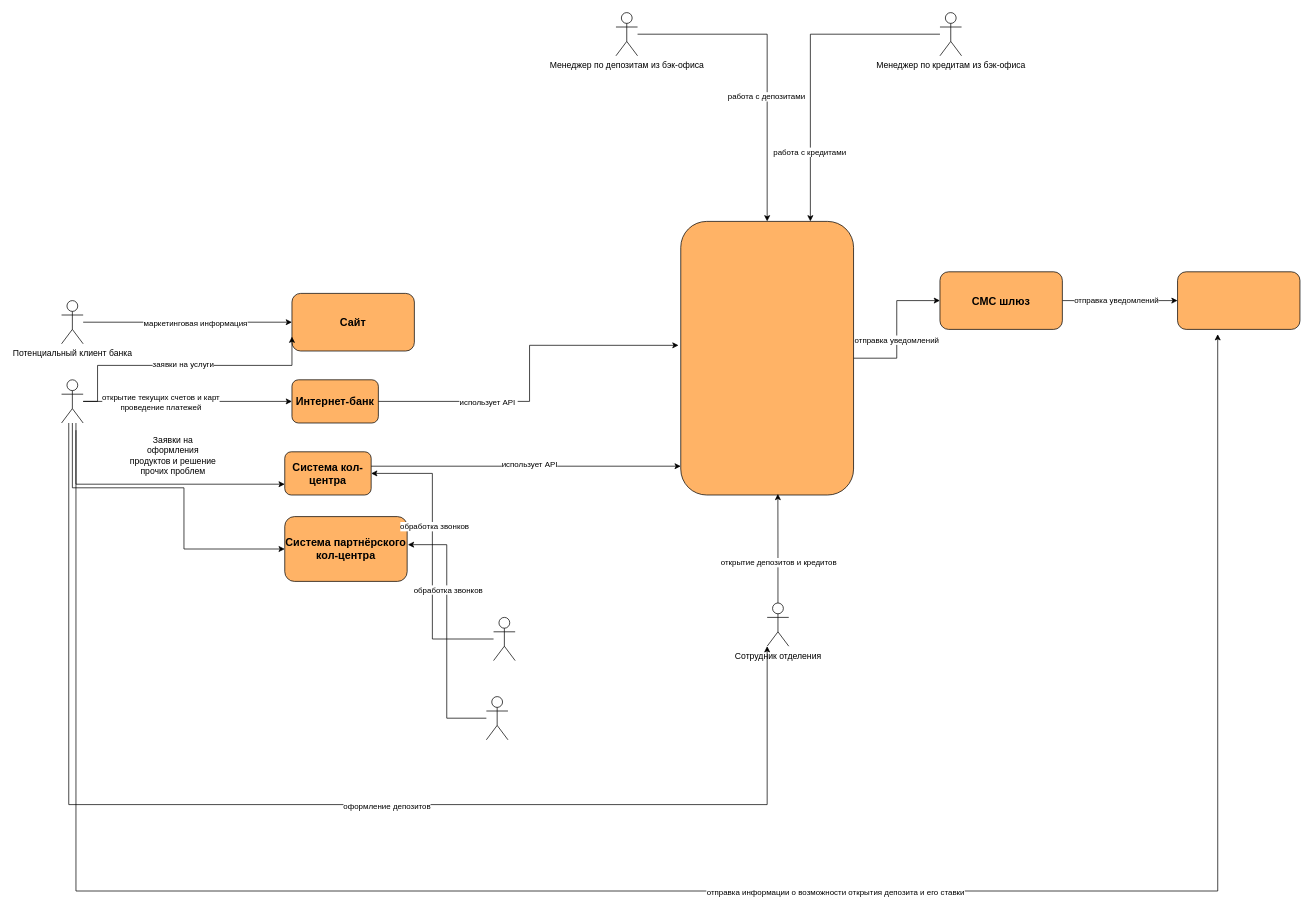
Image size: 1313x909. Some labels were removed from this diagram. The centre of each missing label's shape, as x and y in pixels:
"АБС" belongs at (x=767, y=358).
"Клиент банка" belongs at (x=72, y=401).
"Сотрудник кол-центра банка" belongs at (x=504, y=639).
"Сотрудник партнёрского кол-центра" belongs at (x=497, y=718).
"Телеком оператор" belongs at (x=1238, y=300).
